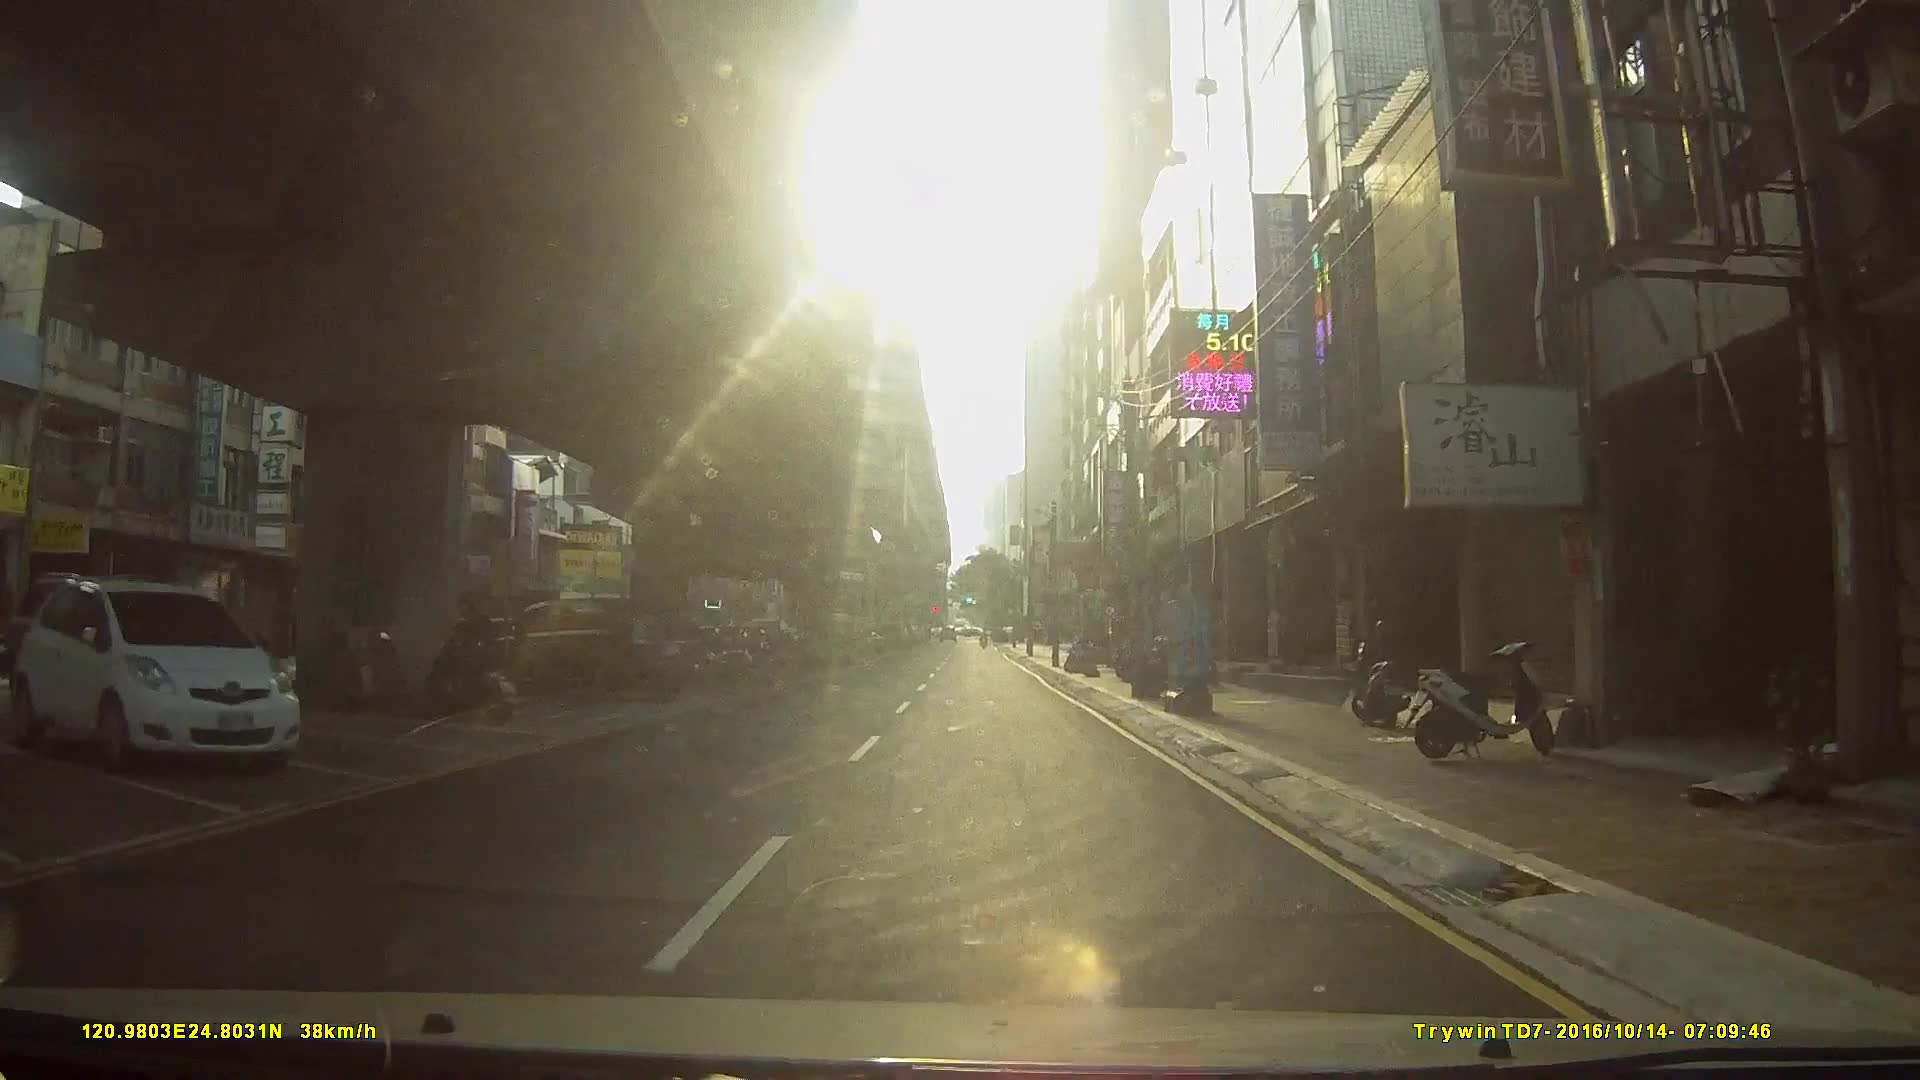vehicle: (11, 576, 301, 767), (473, 595, 702, 699)
